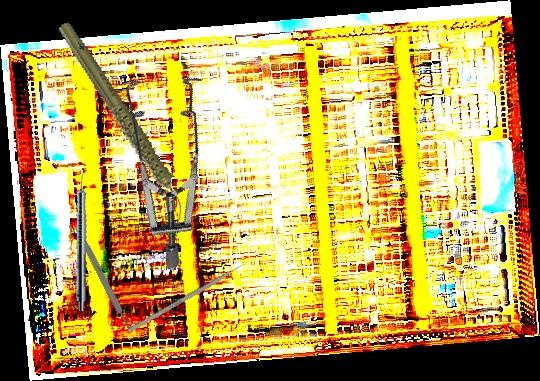Handpiece: (55, 4, 189, 238), (76, 168, 89, 311)
Pusher: (127, 257, 253, 334)
Scalpel Handle: (73, 225, 133, 332)
Speculum: (53, 46, 263, 274)
